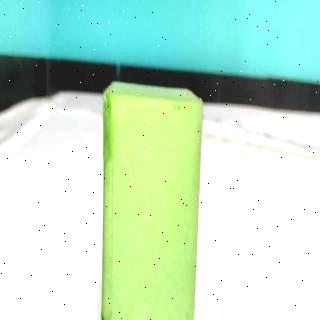greenbox: (101, 76, 206, 320)
